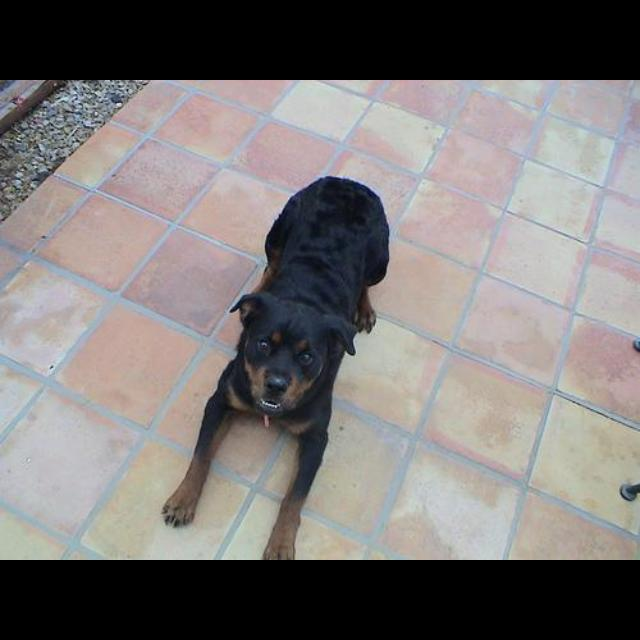rottweiler: (161, 175, 391, 560)
